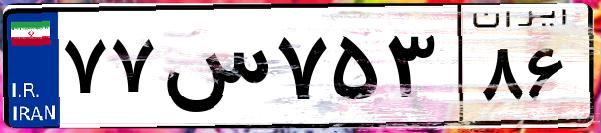3: (385, 28, 445, 110)
5: (330, 28, 385, 110)
6: (525, 38, 570, 115)
7: (270, 28, 330, 110), (57, 26, 110, 100), (110, 28, 158, 98)
8: (475, 38, 525, 113)
س: (158, 20, 270, 120)
